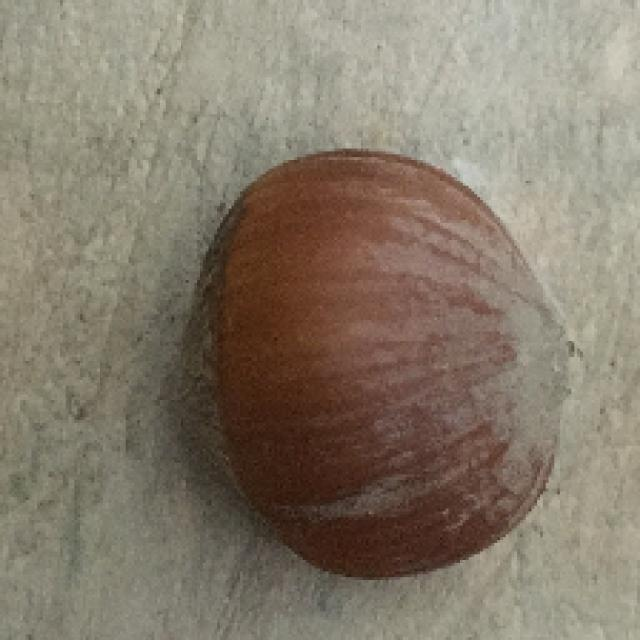qualityHazelnut: (169, 148, 570, 576)
